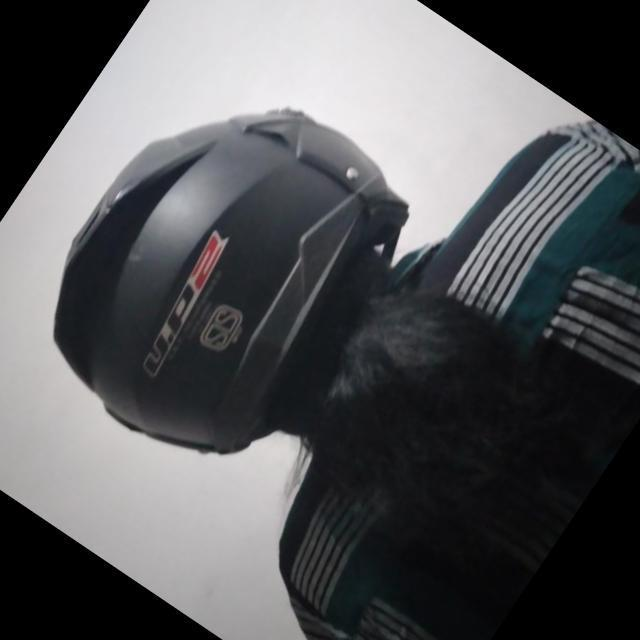with_helmet: (51, 117, 401, 458)
